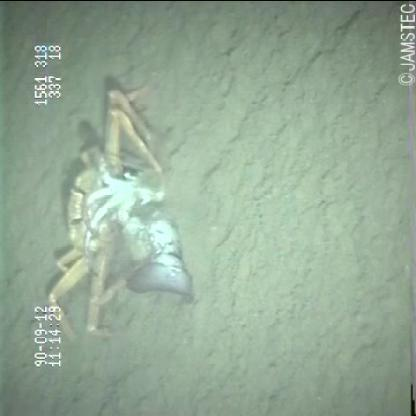Bio: (43, 63, 209, 348)
